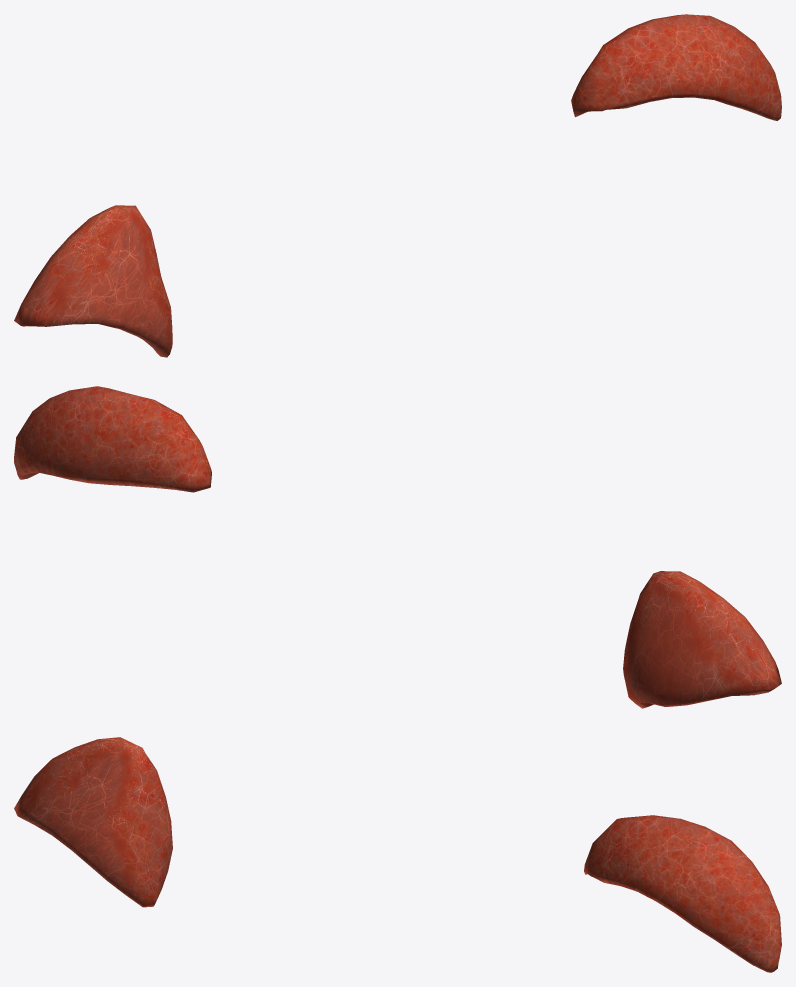
File: AdrenalGlands.FBX
The picture shows the model from 3 angles, top to bottom: view 1: azimuth 30°, elevation 25°; view 2: azimuth 150°, elevation 25°; view 3: azimuth 330°, elevation 25°; orthographic projection.
Parts seen in each view (by area): view 1: AdrenalGlands; view 2: AdrenalGlands; view 3: AdrenalGlands.
Part boxes in pixels (<box>): AdrenalGlands: <box>14,14,781,357</box>; AdrenalGlands: <box>14,386,781,708</box>; AdrenalGlands: <box>14,737,781,972</box>.
Bounding box in the file's own units: 105 × 13.51 × 26.58.
